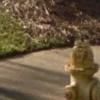Hydrant: (55, 27, 100, 100)
